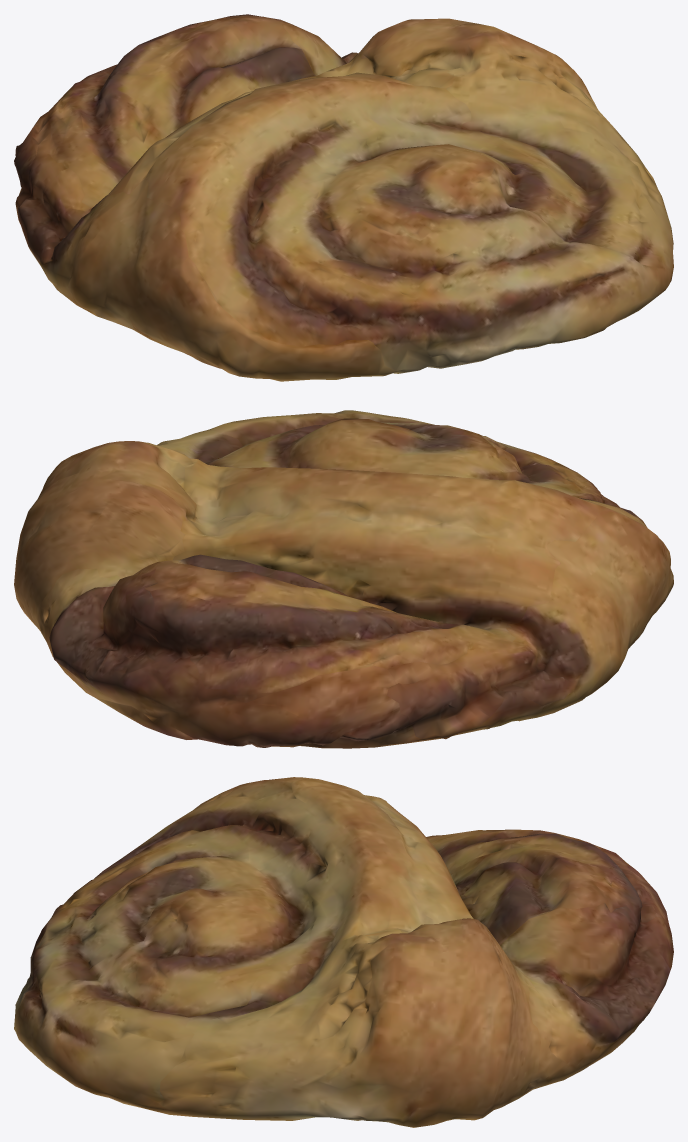
Rendered from pastry.glb.
3 views of the same model, one above another, from view 1: azimuth 30°, elevation 25°; view 2: azimuth 150°, elevation 25°; view 3: azimuth 270°, elevation 25° (orthographic). The views are drawn at different scales.
Visible parts, largest first — view 1: pastry; view 2: pastry; view 3: pastry.
Boxes of the visible parts, left/top/right/bottom form: pastry: left=14, top=14, right=673, bottom=381; pastry: left=14, top=410, right=673, bottom=748; pastry: left=14, top=777, right=673, bottom=1127.
Size of the model in its own units: 0.1864 by 0.0564 by 0.2003.
Materials: 1 (1 with a texture image).
